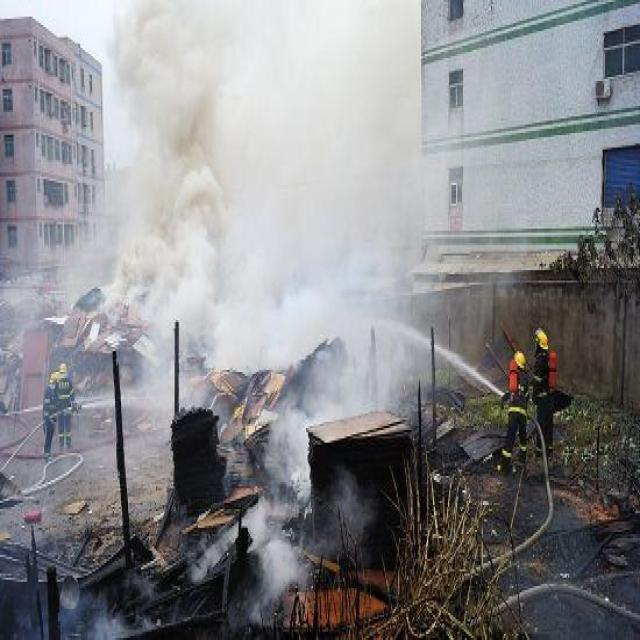Smoke: (50, 0, 424, 359), (217, 263, 397, 447), (240, 489, 308, 626), (58, 588, 124, 636)
